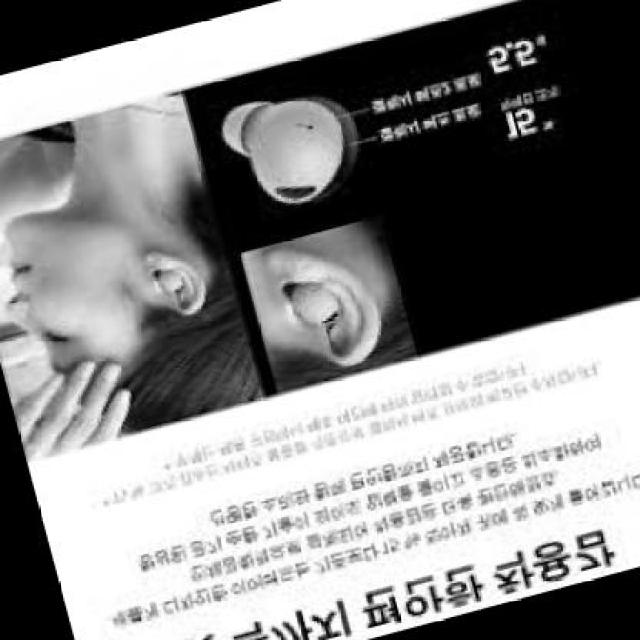earphone: (209, 90, 364, 204), (296, 270, 354, 332), (144, 265, 206, 308)
